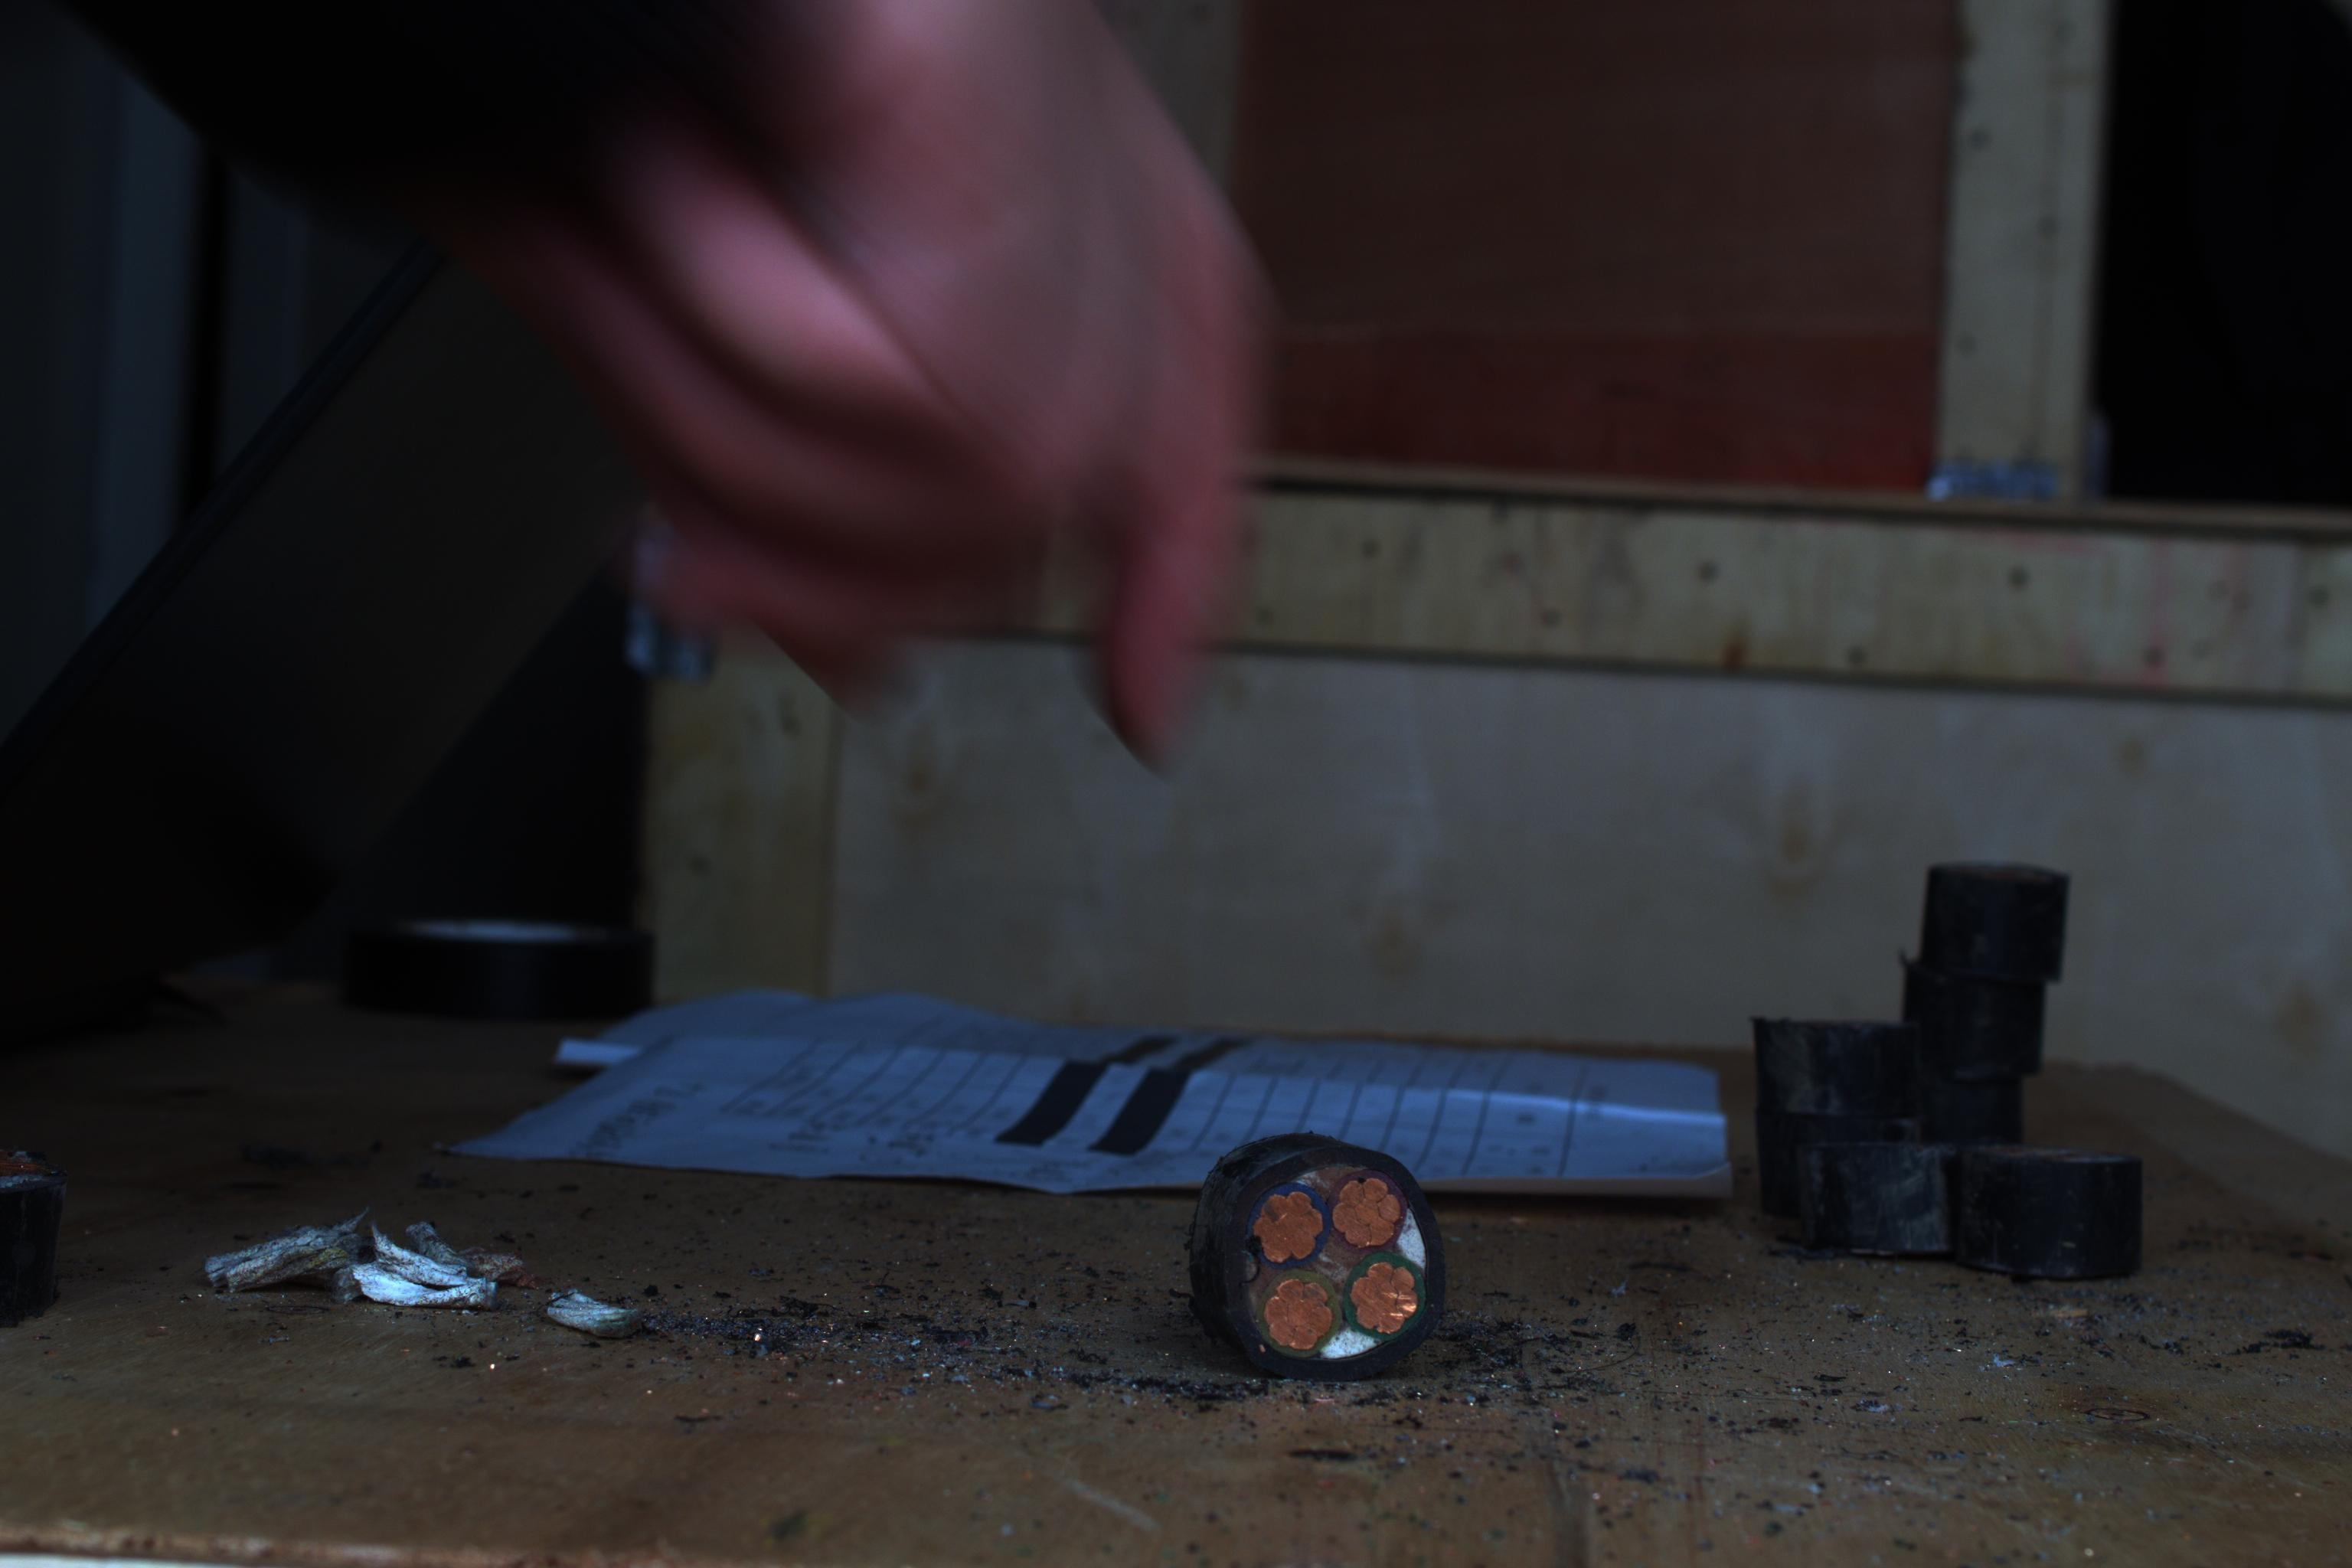YJV_0.6_1kV_4x35: (1190, 1122, 1458, 1377)
